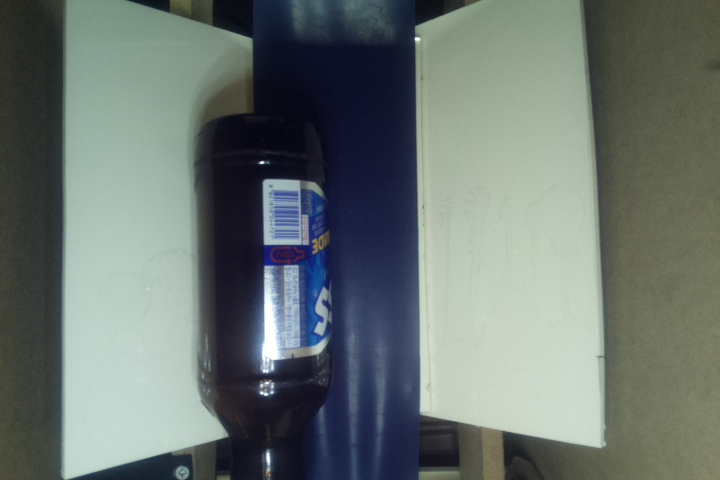makju: (193, 114, 337, 480)
